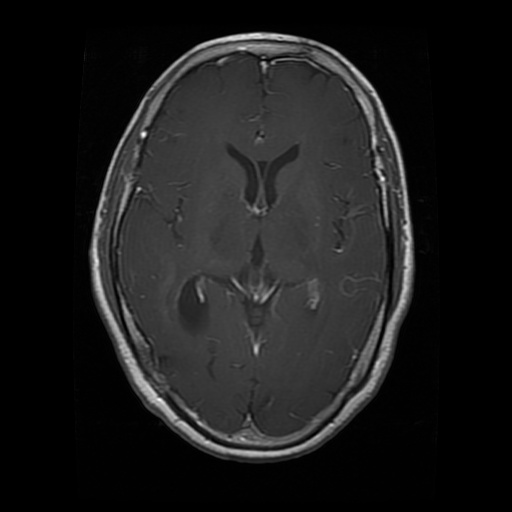glioma: (176, 275, 207, 335)
